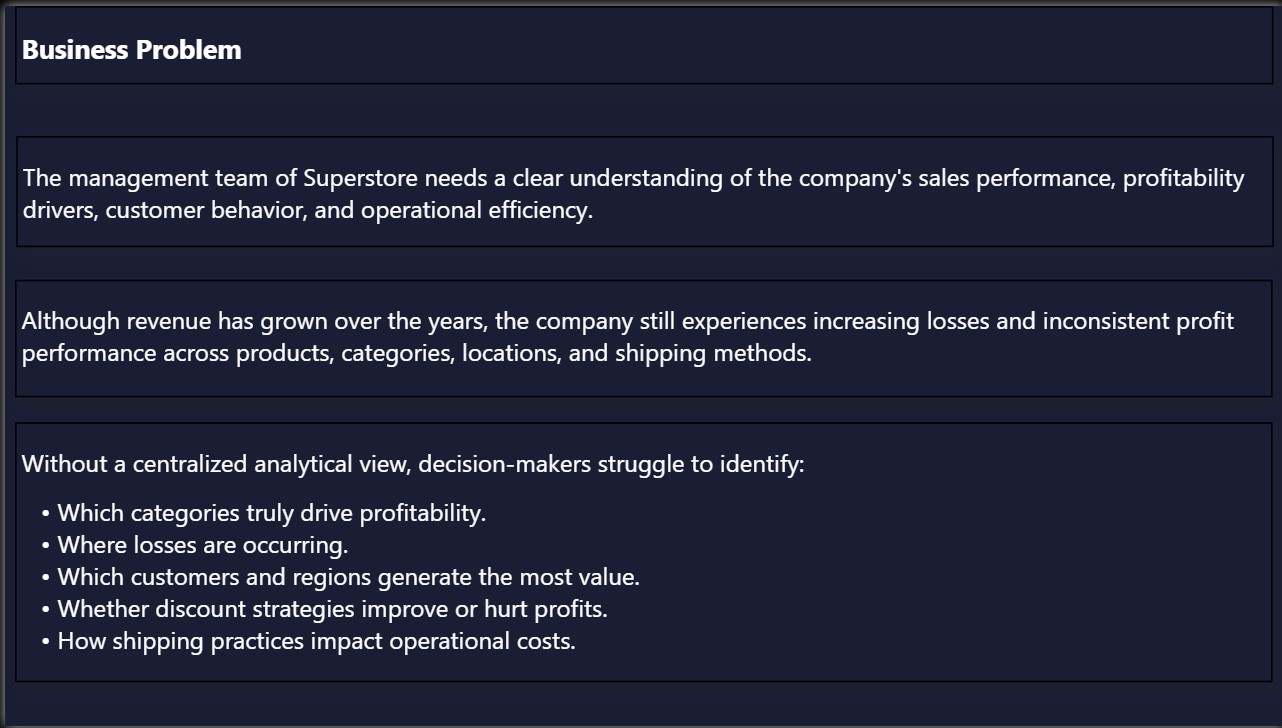

Layout of this report page (visuals, bound fields, positions):
{"tool":"powerbi","page":{"name":"Business Problem","canvas":[1280,720],"ordinal":1},"visuals":[{"type":"textbox","box":[10,0,1258.8,78.8],"z":0},{"type":"textbox","box":[11.2,130,1257.5,111.2],"z":1000},{"type":"textbox","box":[10,273.1,1257.5,117.5],"z":2000},{"type":"textbox","box":[10,416.2,1257.5,260],"z":3000}]}

Visuals, with their boxes in screenshot pixels (x1, y1, x2, y2), scaled from the page's 1280x720 canvas onto the 1282x728 screenshot:
textbox: (10, 0, 1271, 80)
textbox: (11, 131, 1271, 244)
textbox: (10, 276, 1269, 395)
textbox: (10, 421, 1269, 684)
